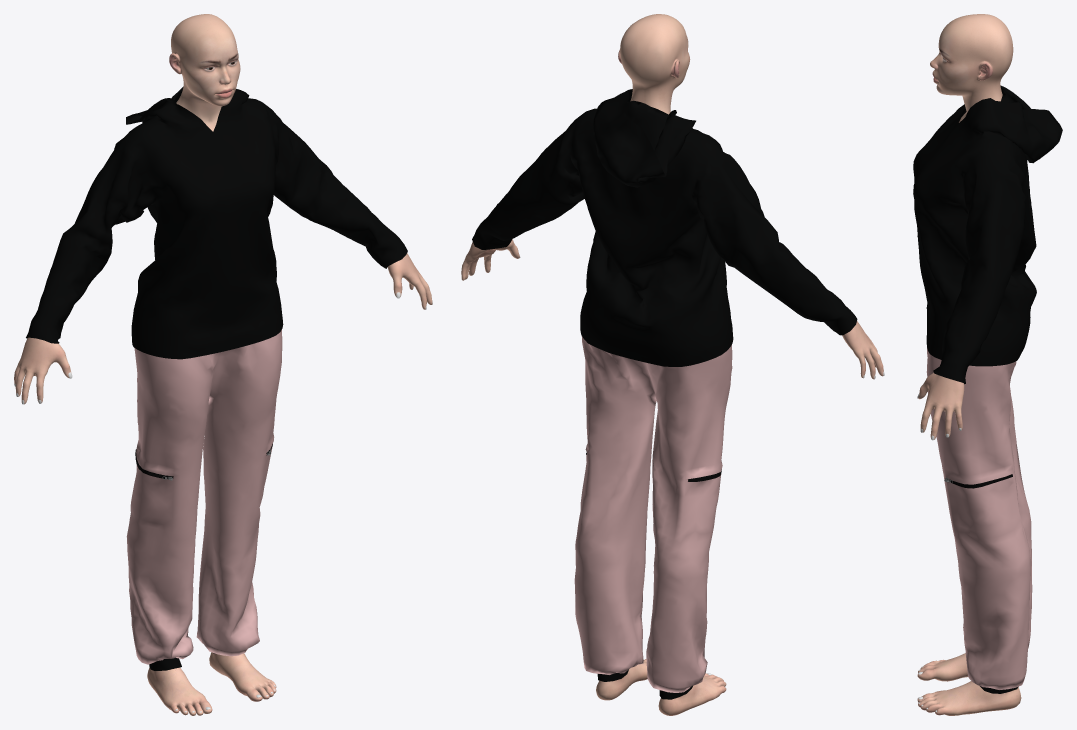
3 views of the same model, side by side, from view 1: azimuth 30°, elevation 25°; view 2: azimuth 150°, elevation 25°; view 3: azimuth 270°, elevation 25° (orthographic).
Visible parts, largest first — view 1: black hoodie and tarck pant_f, base_female; view 2: black hoodie and tarck pant_f, base_female; view 3: black hoodie and tarck pant_f, base_female.
Boxes of the visible parts, x1,y1,x2,y2 form: black hoodie and tarck pant_f: (26,86,407,670); base_female: (14,14,432,715); black hoodie and tarck pant_f: (472,89,857,699); base_female: (461,14,884,715); black hoodie and tarck pant_f: (913,85,1062,693); base_female: (917,14,1021,715).
Bounding box in the file's own units: 1.06 × 1.66 × 0.3331.
16 materials, 5 textured.
